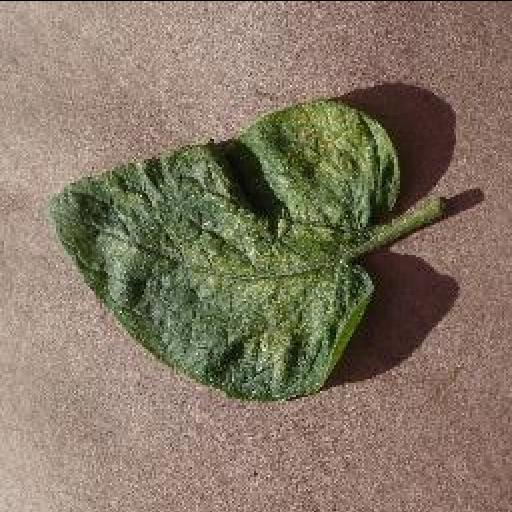disease_tomato: (48, 98, 400, 396)
